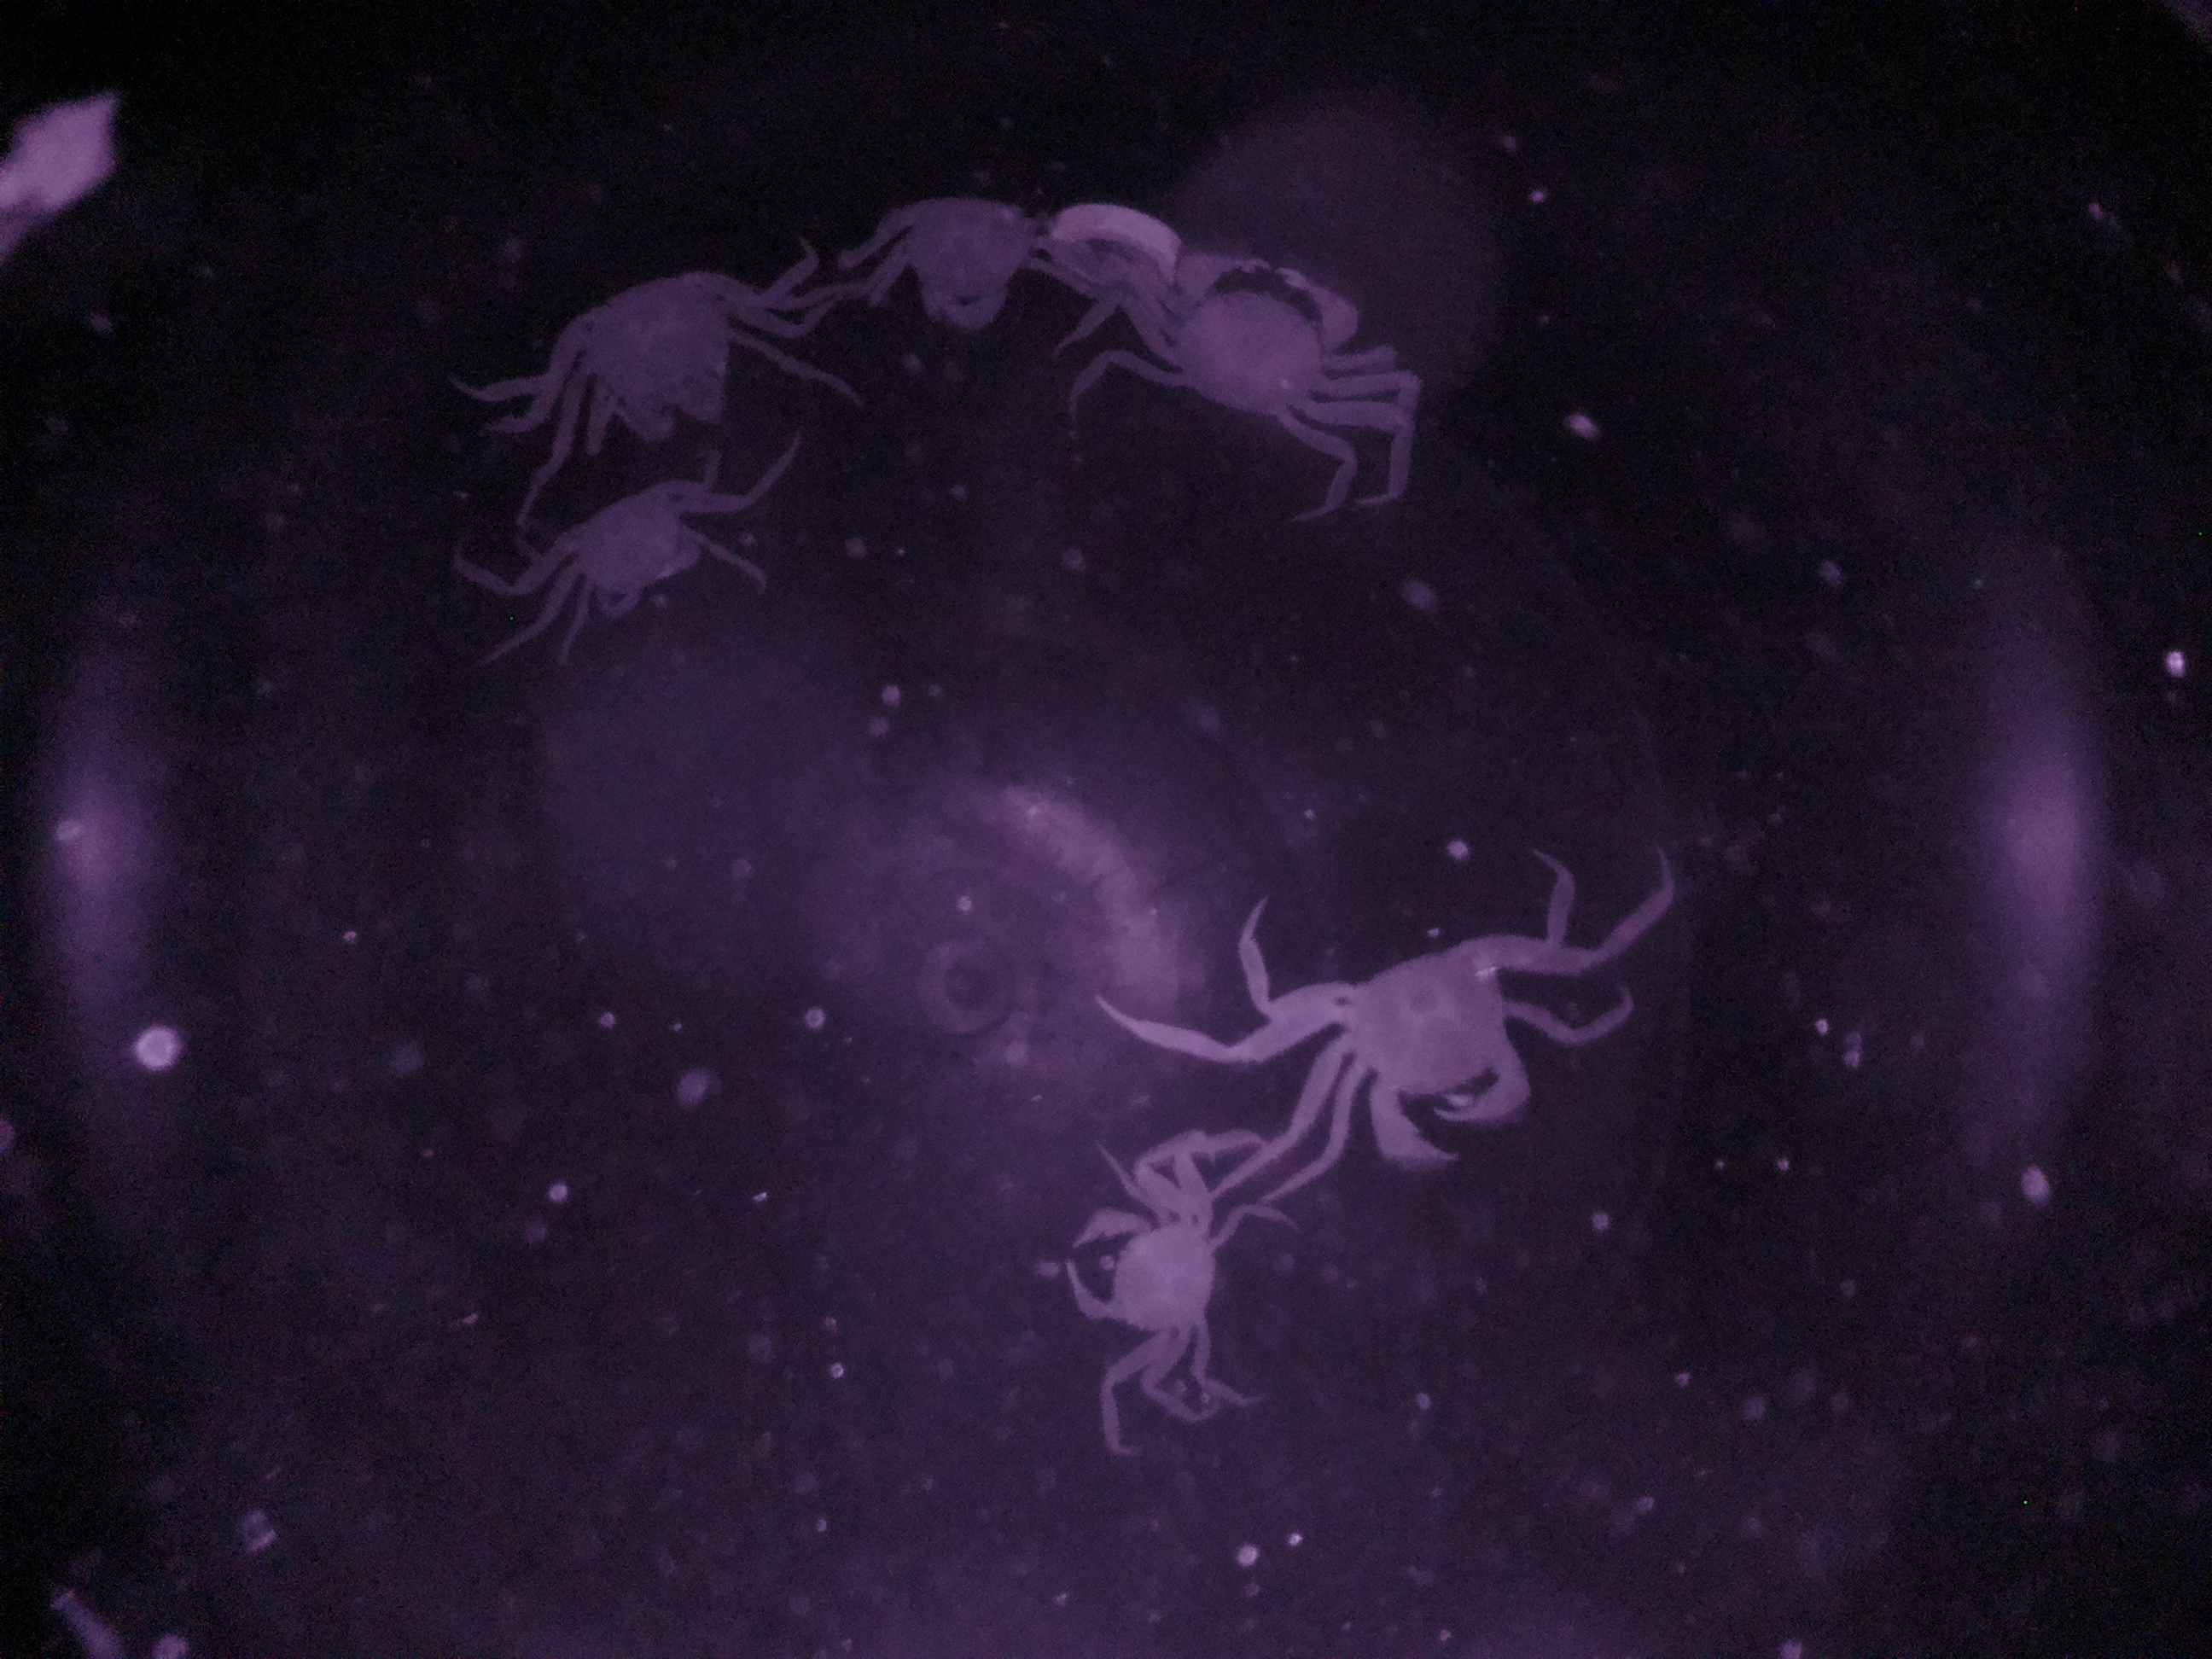Crab: (1270, 911, 1541, 1173), (1103, 237, 1383, 458), (1049, 1171, 1251, 1385), (535, 465, 742, 631)
